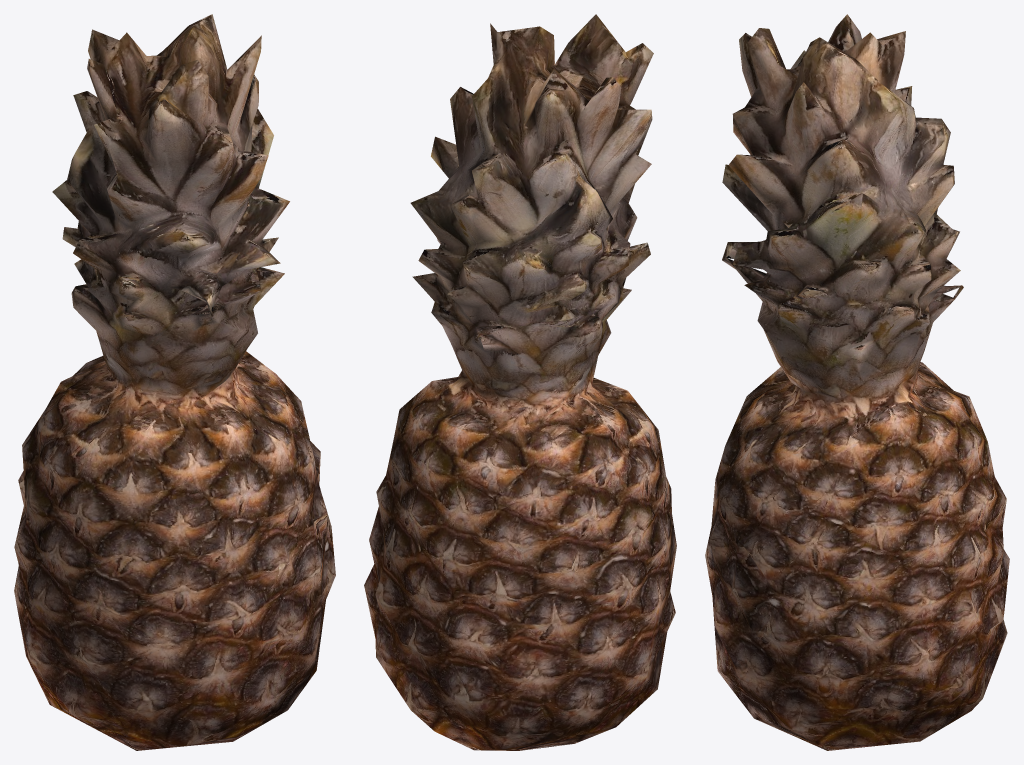
3 renders of one model, left to right at view 1: azimuth 30°, elevation 25°; view 2: azimuth 150°, elevation 25°; view 3: azimuth 270°, elevation 25°, orthographic. The views are drawn at different scales.
Parts seen in each view (by area): view 1: 63_pineapple; view 2: 63_pineapple; view 3: 63_pineapple.
Boxes of the visible parts, box(x1,y1,x2,y2) form: 63_pineapple: box(14, 14, 335, 750); 63_pineapple: box(364, 14, 676, 750); 63_pineapple: box(705, 14, 1009, 750).
Size of the model in its own units: 0.8118 by 1.95 by 0.7875.
1 material, 1 textured.
